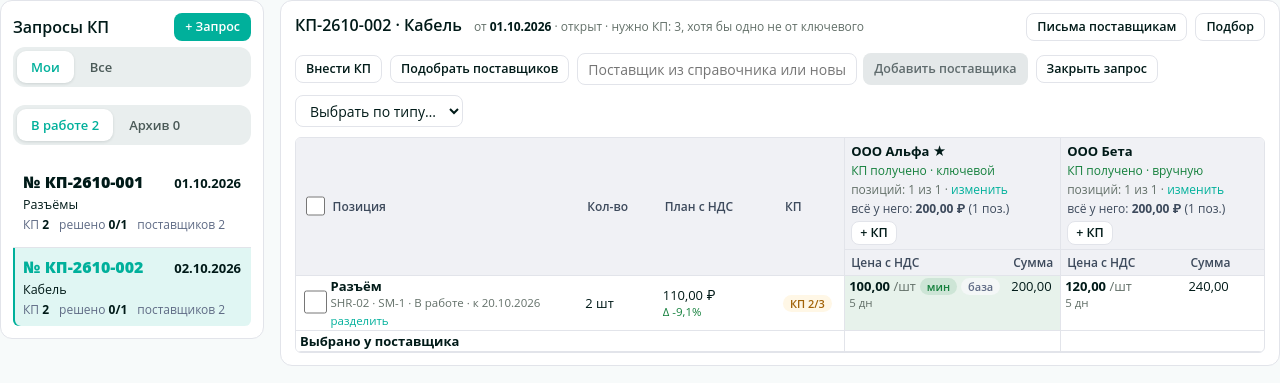
it: opens the request named in the address and keeps the address on the request chosen
Expected: the heading "КП-2610-002 · Кабель" is shown, [295,14,462,36]
Click the button "КП-2610-001".
click(132, 202)  # box [13,163,251,241]
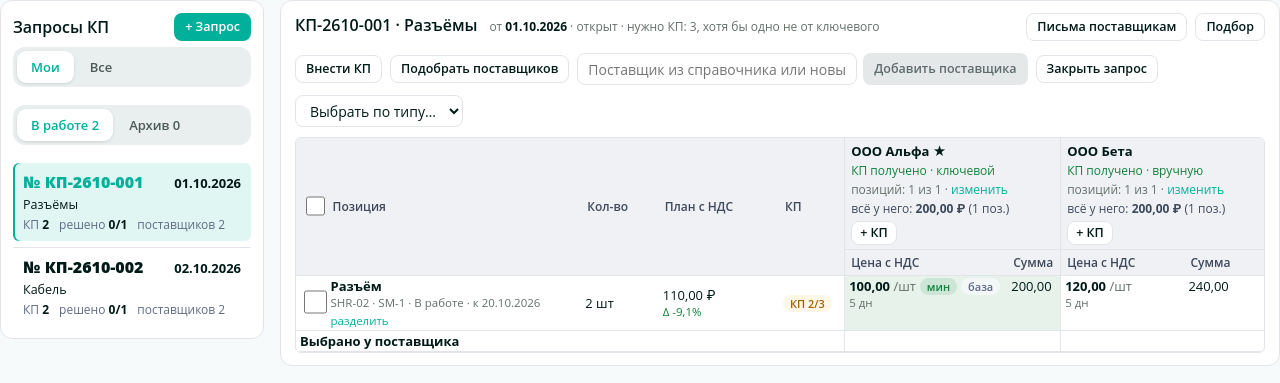
Now the heading "КП-2610-001 · Разъёмы" is shown, box [295,14,478,36]
